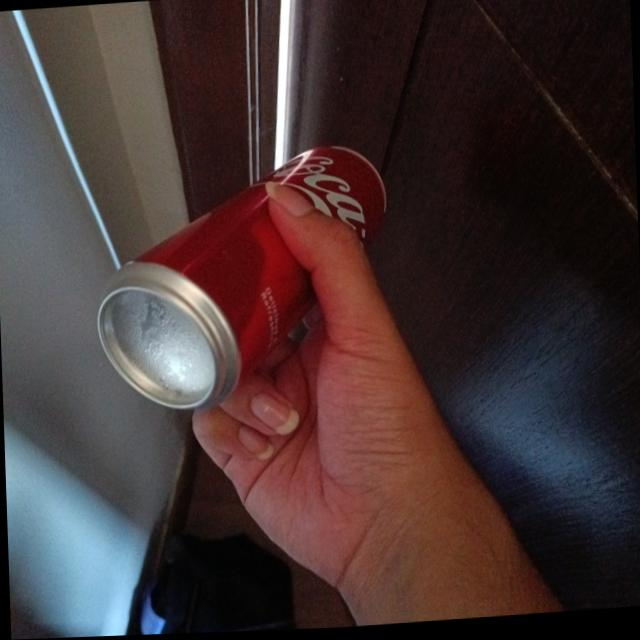coke: (88, 146, 392, 416)
